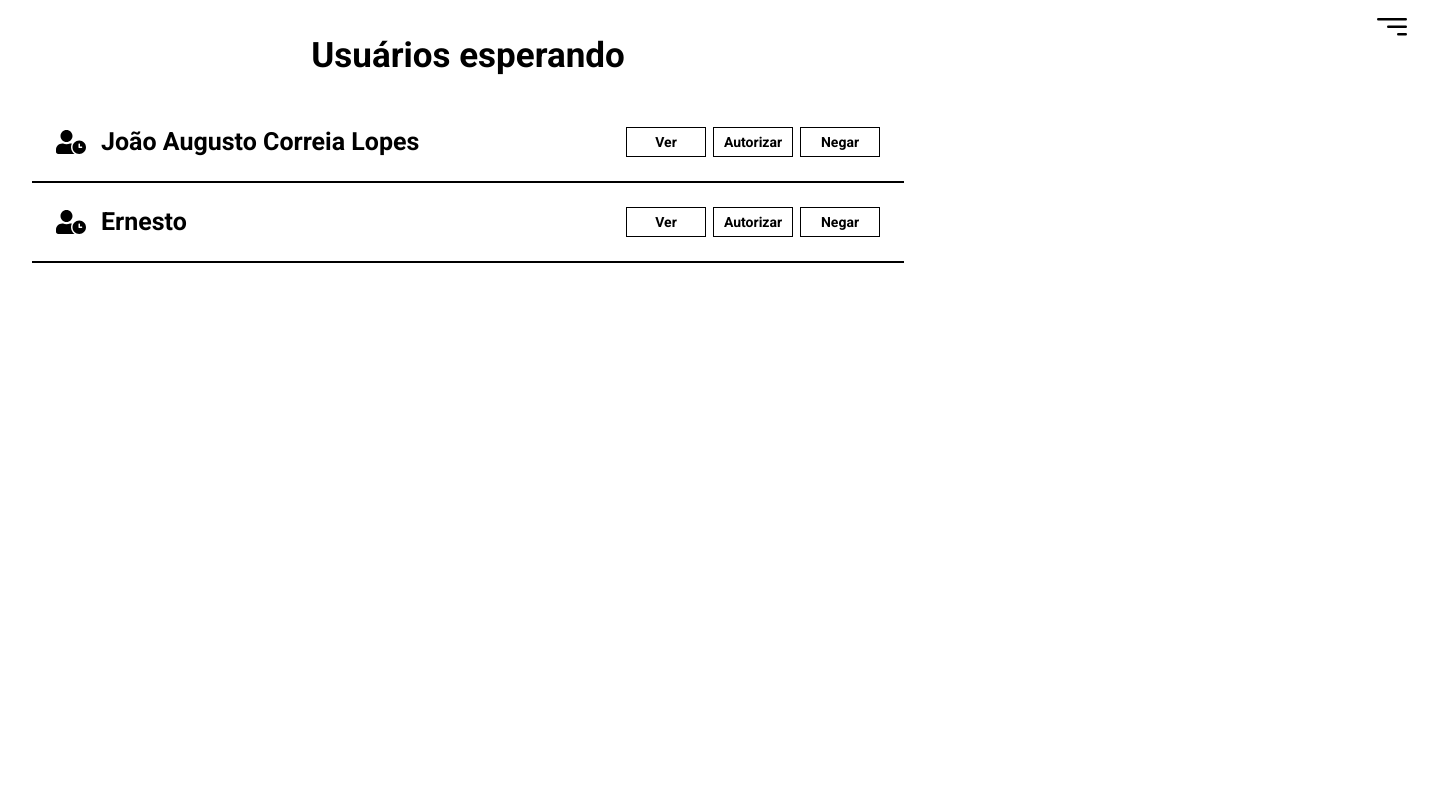
Scenario: UsersWaiting › Close warning deny
Click the button "Negar" in the row of "João Augusto Correia Lopes": (840, 142) x1=800 y1=126 x2=880 y2=156
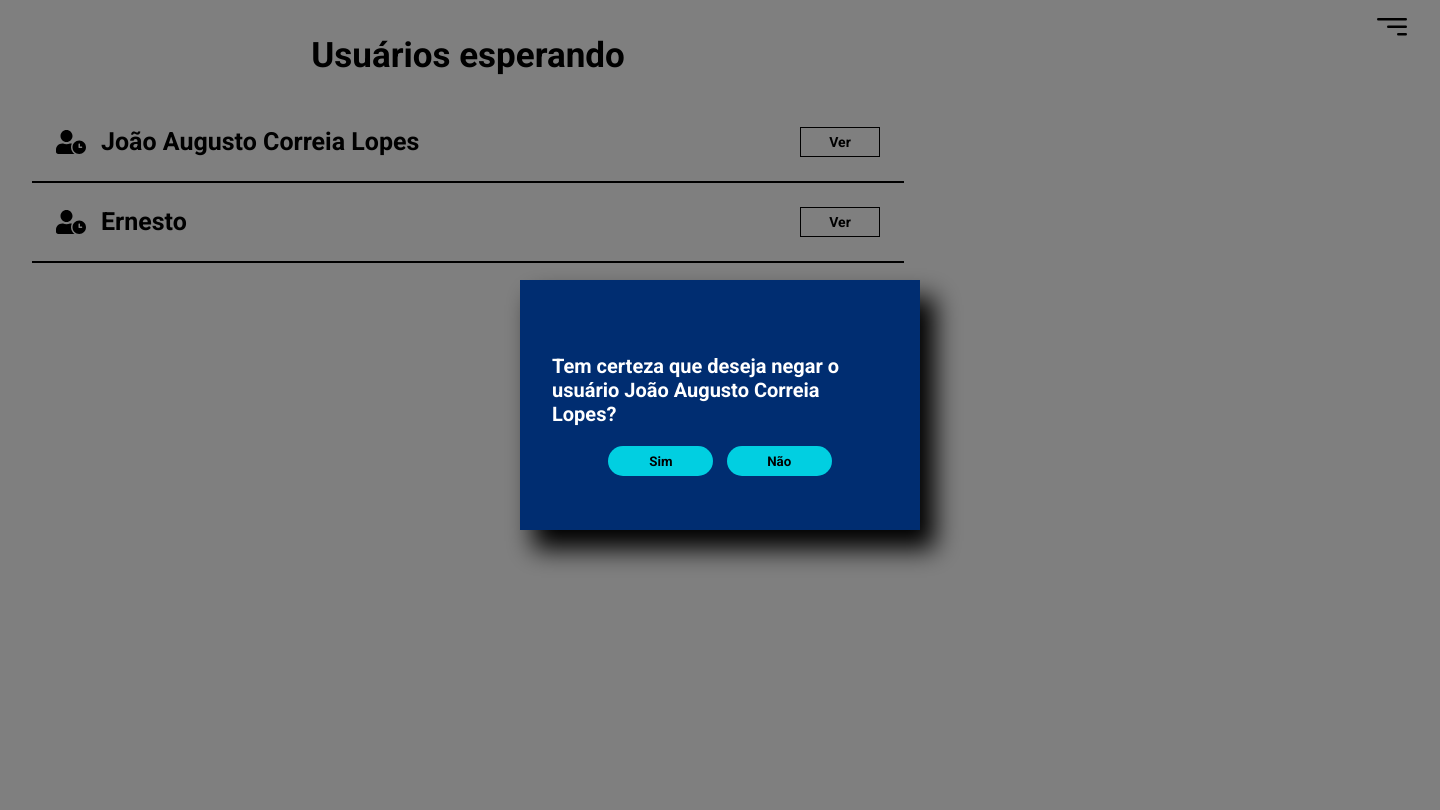
Check: the text "Tem certeza que deseja negar o usuário João Augusto Correia Lopes?" is shown, box x1=552 y1=334 x2=888 y2=446
Check: the button "Sim" is shown, box x1=608 y1=446 x2=713 y2=476
Check: the button "Não" is shown
Click the button "Não": (779, 461) x1=727 y1=446 x2=832 y2=476
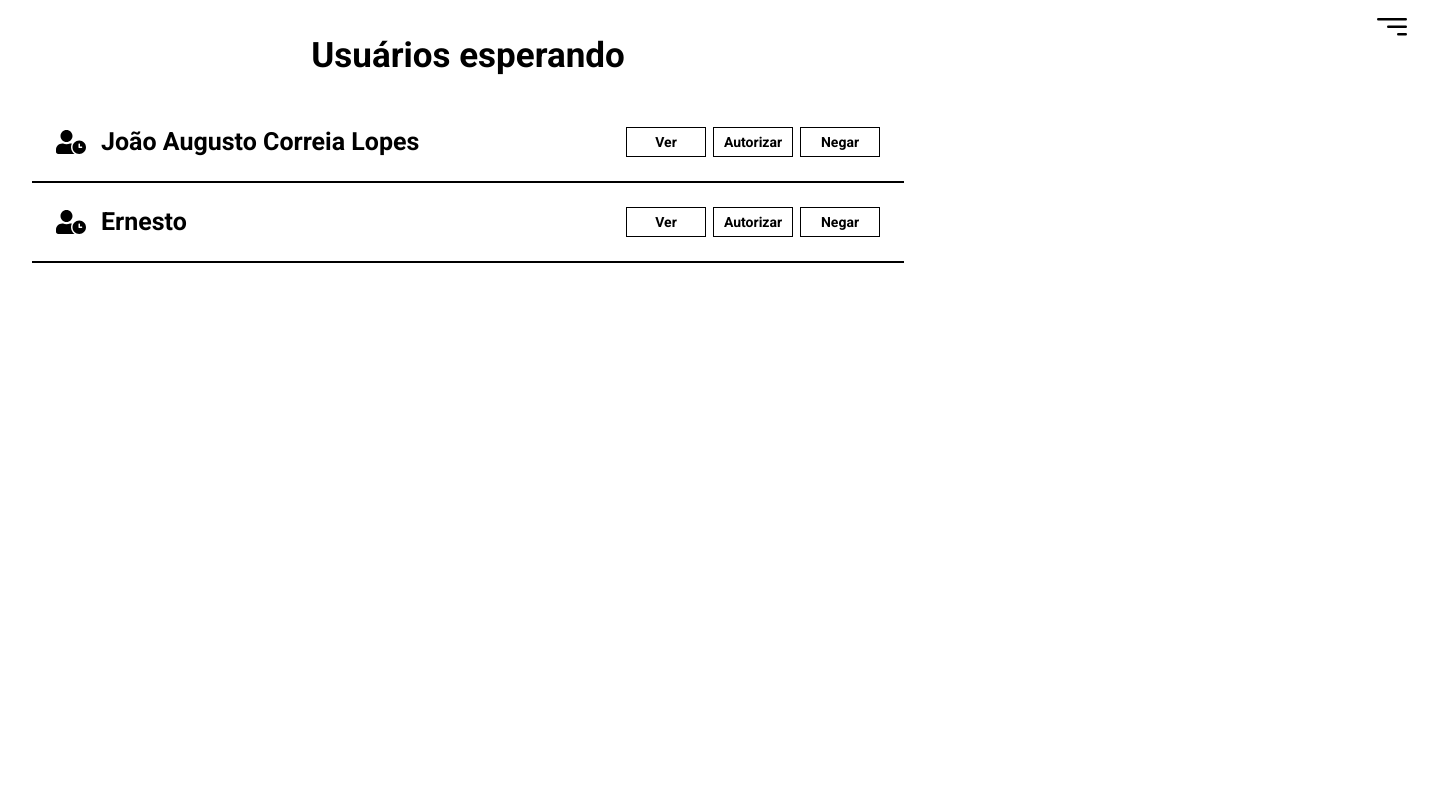
Check: the text "Tem certeza que deseja negar o usuário João Augusto Correia Lopes?" is gone
